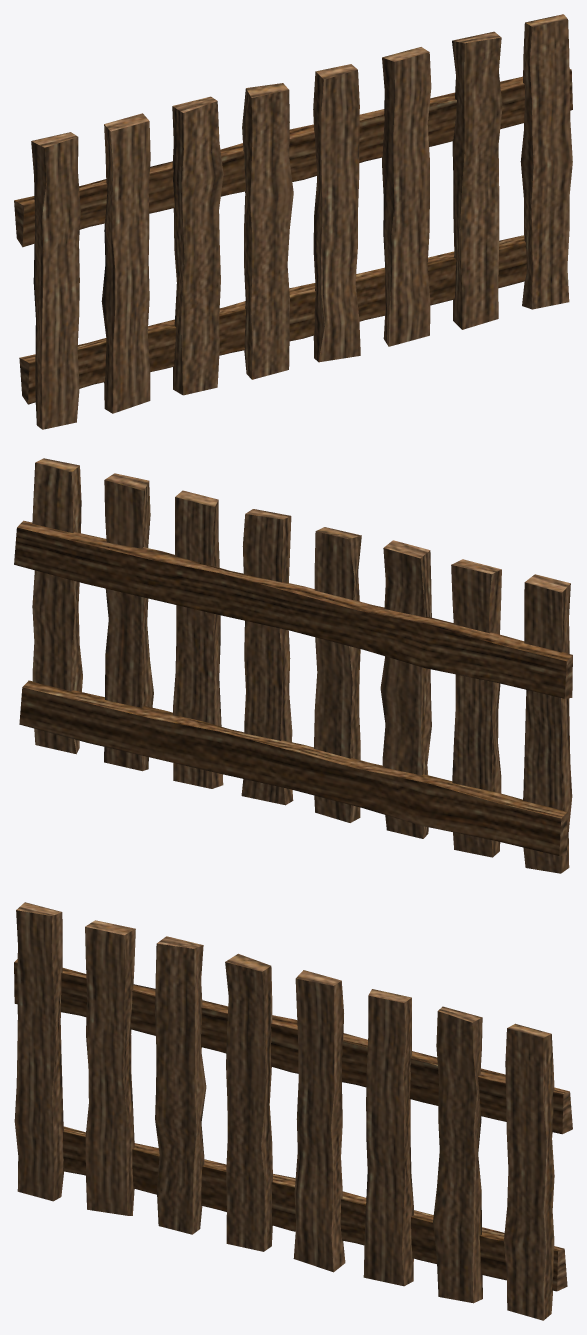
File: kit_fence_wall_cerca.glb
3 renders of one model, top to bottom at view 1: azimuth 30°, elevation 25°; view 2: azimuth 150°, elevation 25°; view 3: azimuth 330°, elevation 25°, orthographic.
Visible parts, largest first — view 1: kit_fence_wall_cerca_mesh; view 2: kit_fence_wall_cerca_mesh; view 3: kit_fence_wall_cerca_mesh.
Boxes of the visible parts, x1,y1,x2,y2 form: kit_fence_wall_cerca_mesh: [14, 14, 572, 429]; kit_fence_wall_cerca_mesh: [14, 458, 572, 873]; kit_fence_wall_cerca_mesh: [14, 902, 572, 1320].
Size of the model in its own units: 3.61 by 1.8 by 0.2134.
Materials: 1 (1 with a texture image).
